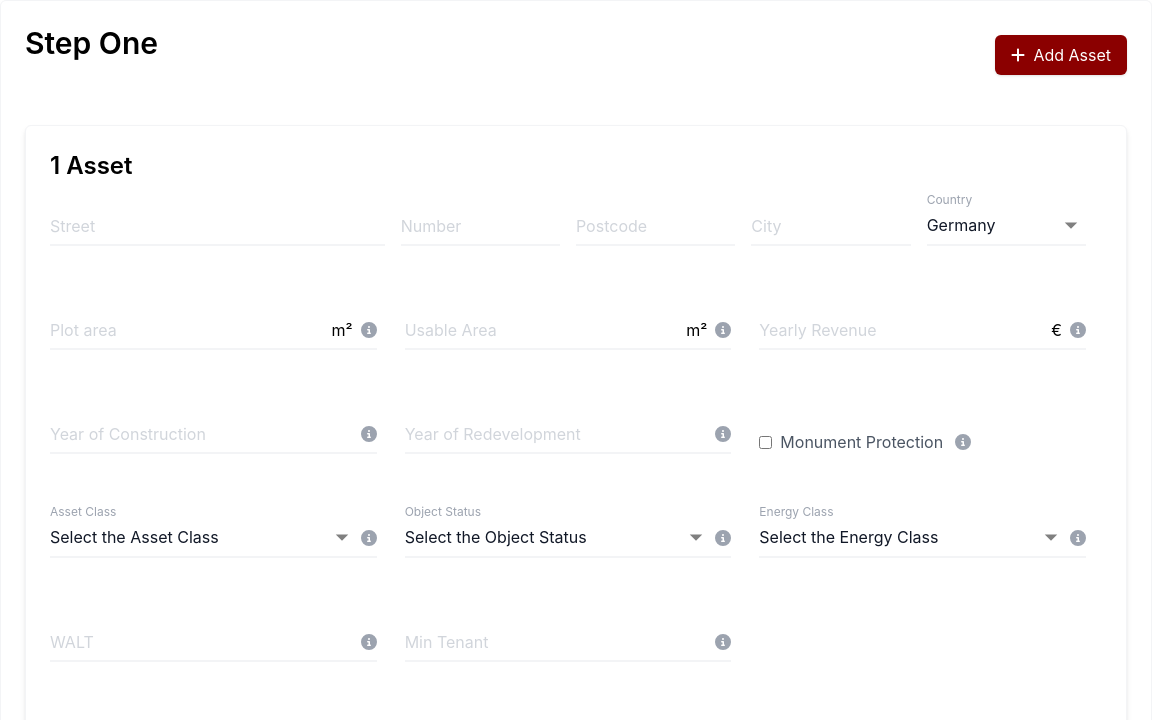
Scenario: StepOneForm component › adds a new AssetSection when the Add Asset button is clicked
The width and height of the screenshot is (1152, 720).
Click the button "Add Asset": (1061, 55) [995, 35, 1127, 75]
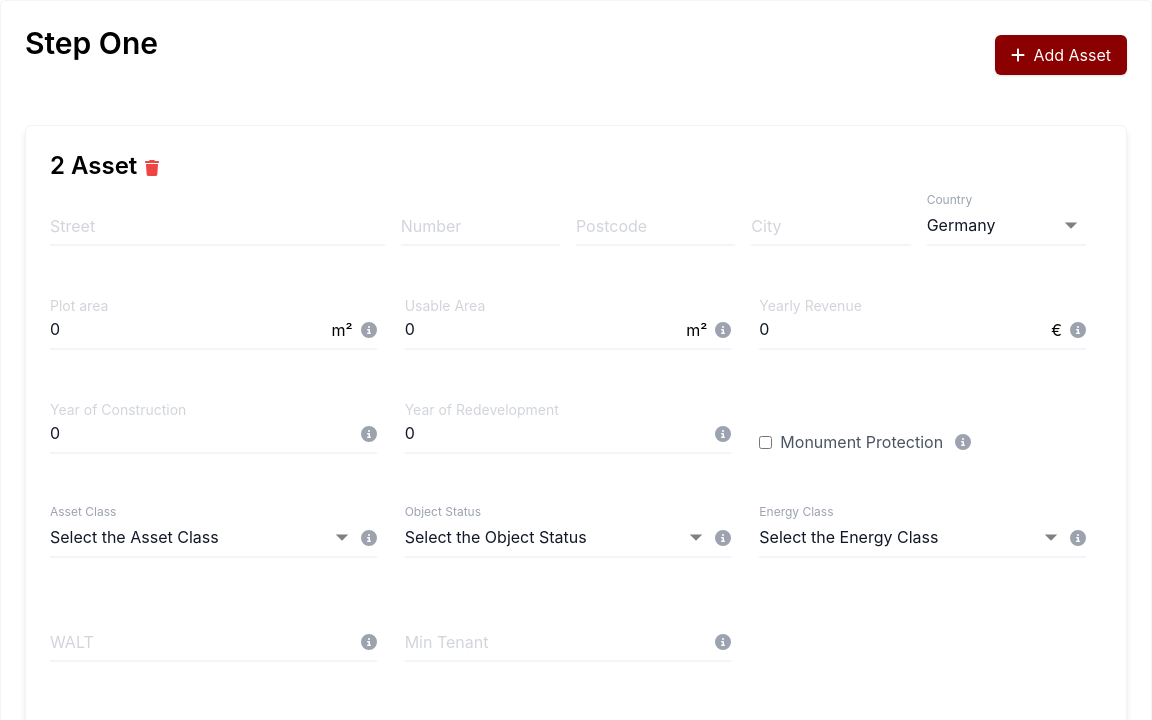
Expected: the heading "2 Asset" is shown, [50, 150, 137, 182]
